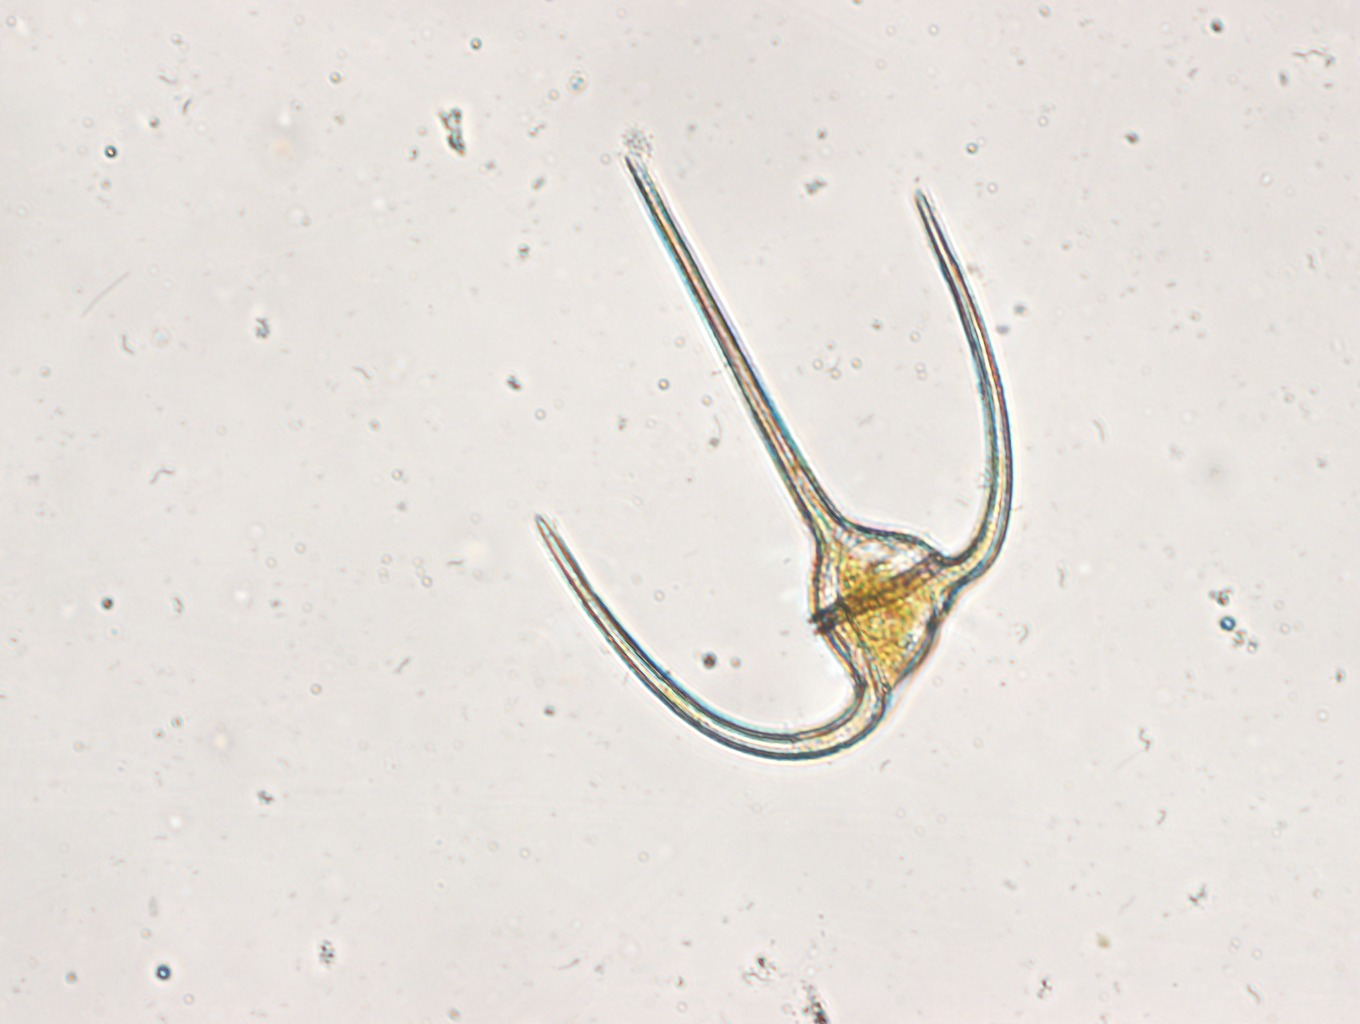ceratium trichoceros: (520, 147, 1023, 766)
